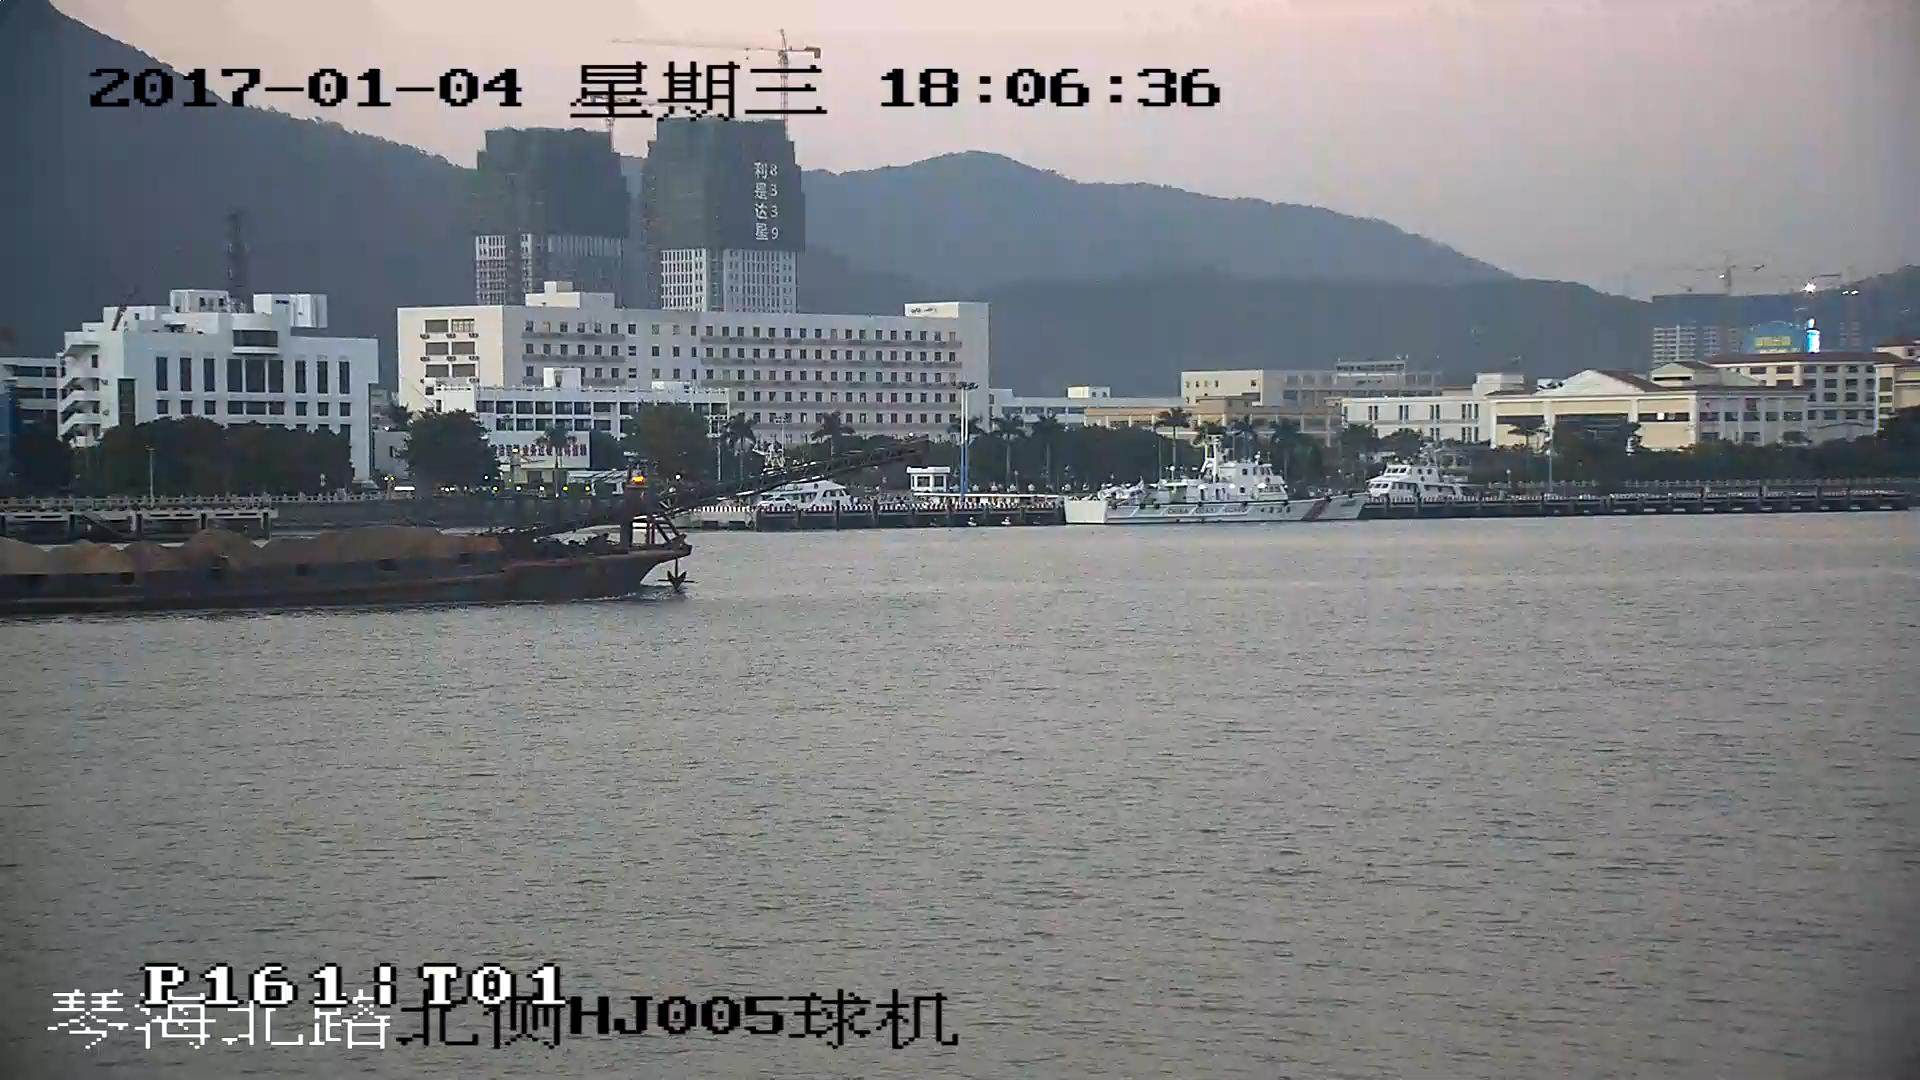ore carrier: (1, 447, 926, 617)
